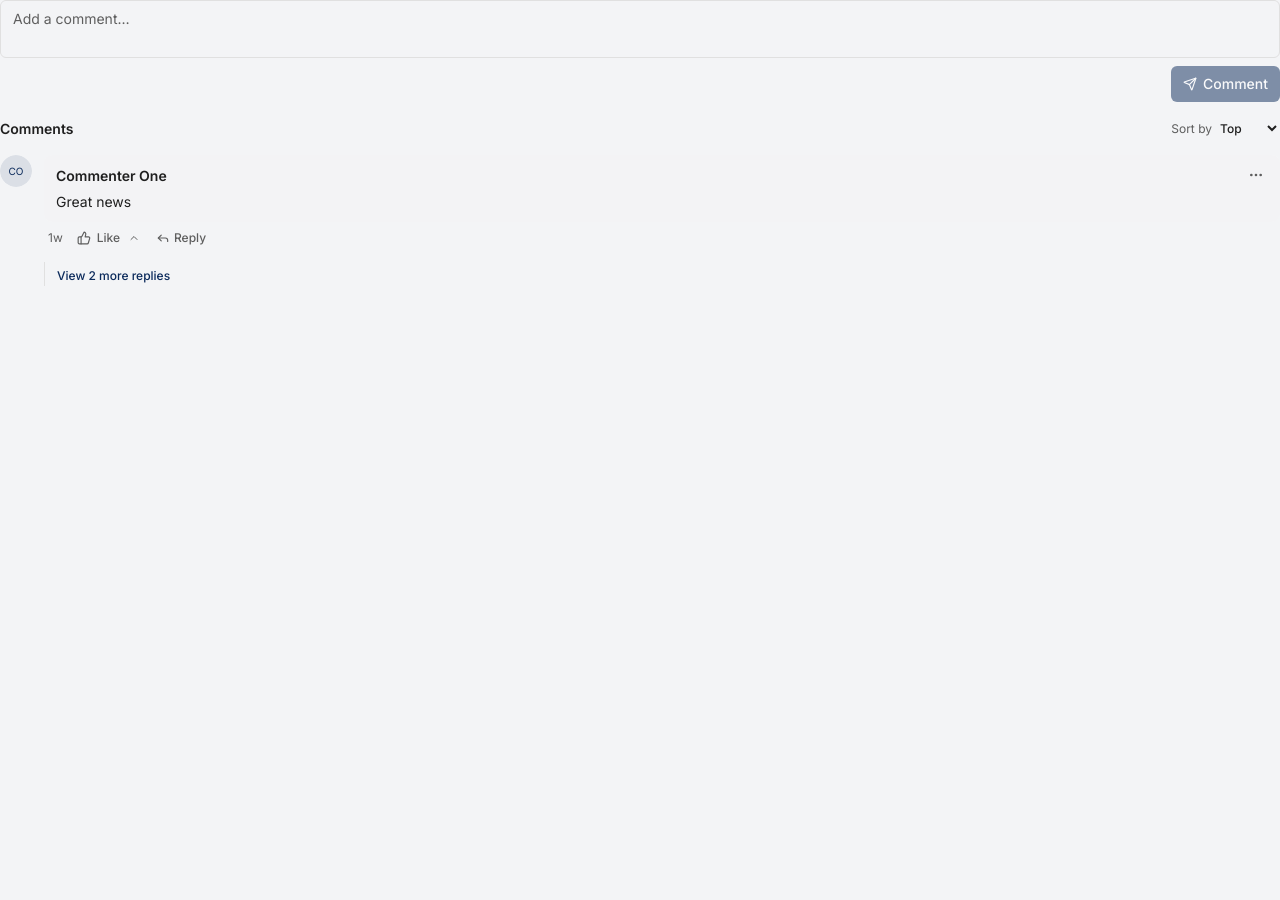
Test: CommentThread › lets the post author delete someone else’s comment (but not edit it)
This screenshot has width=1280, height=900.
Expected: the text "Great news" is shown, [56,193,131,210]
Click the button named "Comment options": (1256, 175) [1244,163,1268,187]
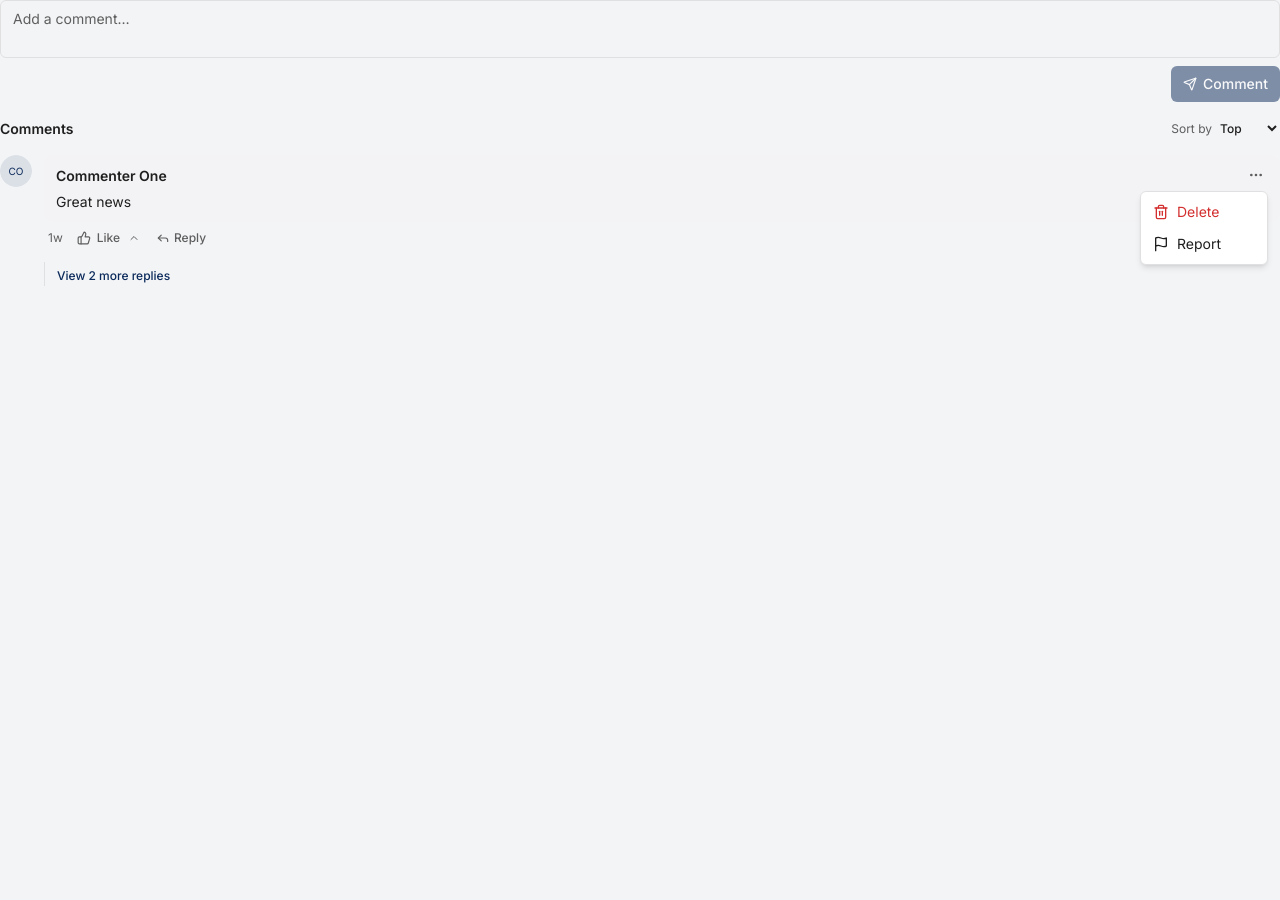
Click the menu item "Delete": (1186, 212) [1153,203,1219,220]
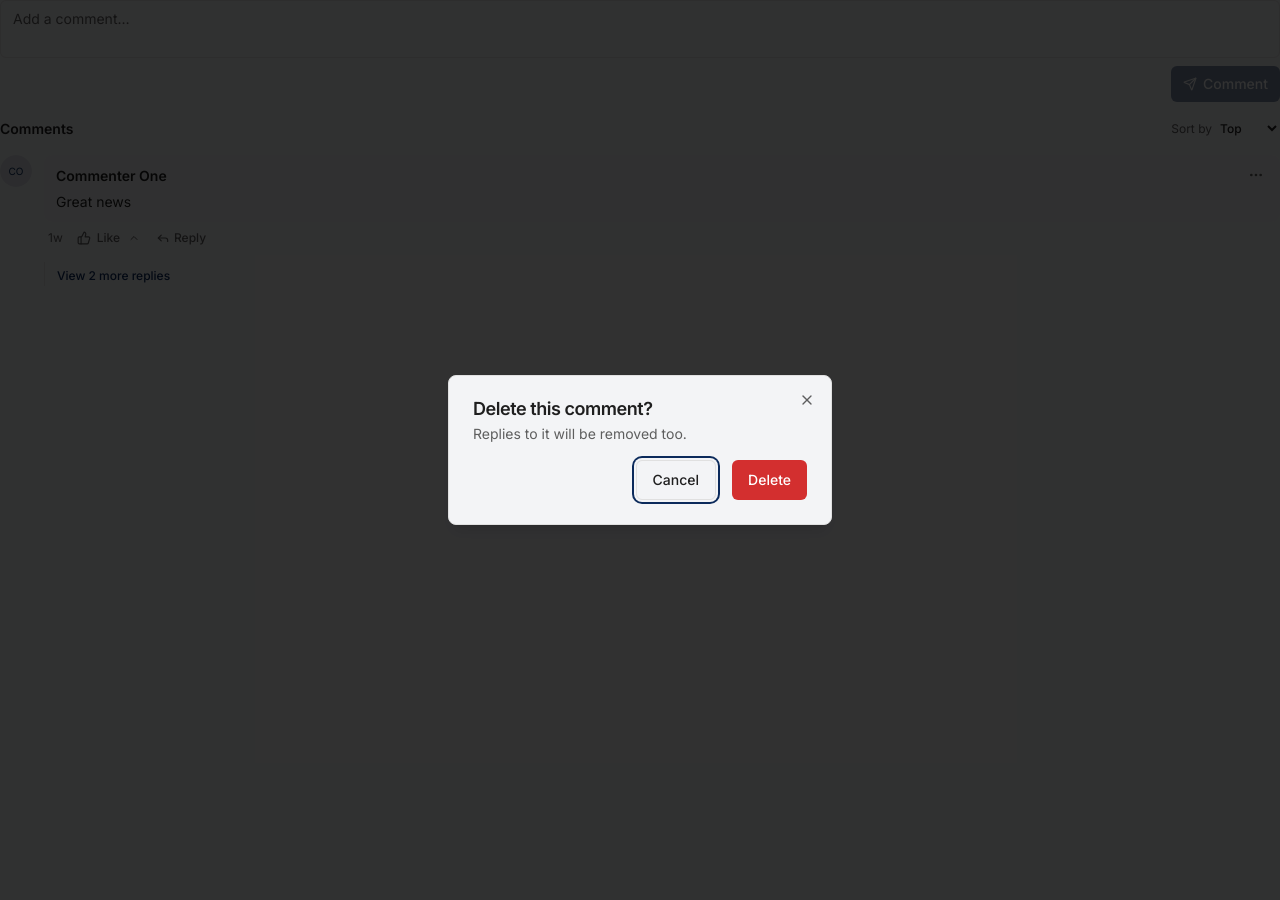
Click the button "Delete": (770, 480) [732,460,807,500]
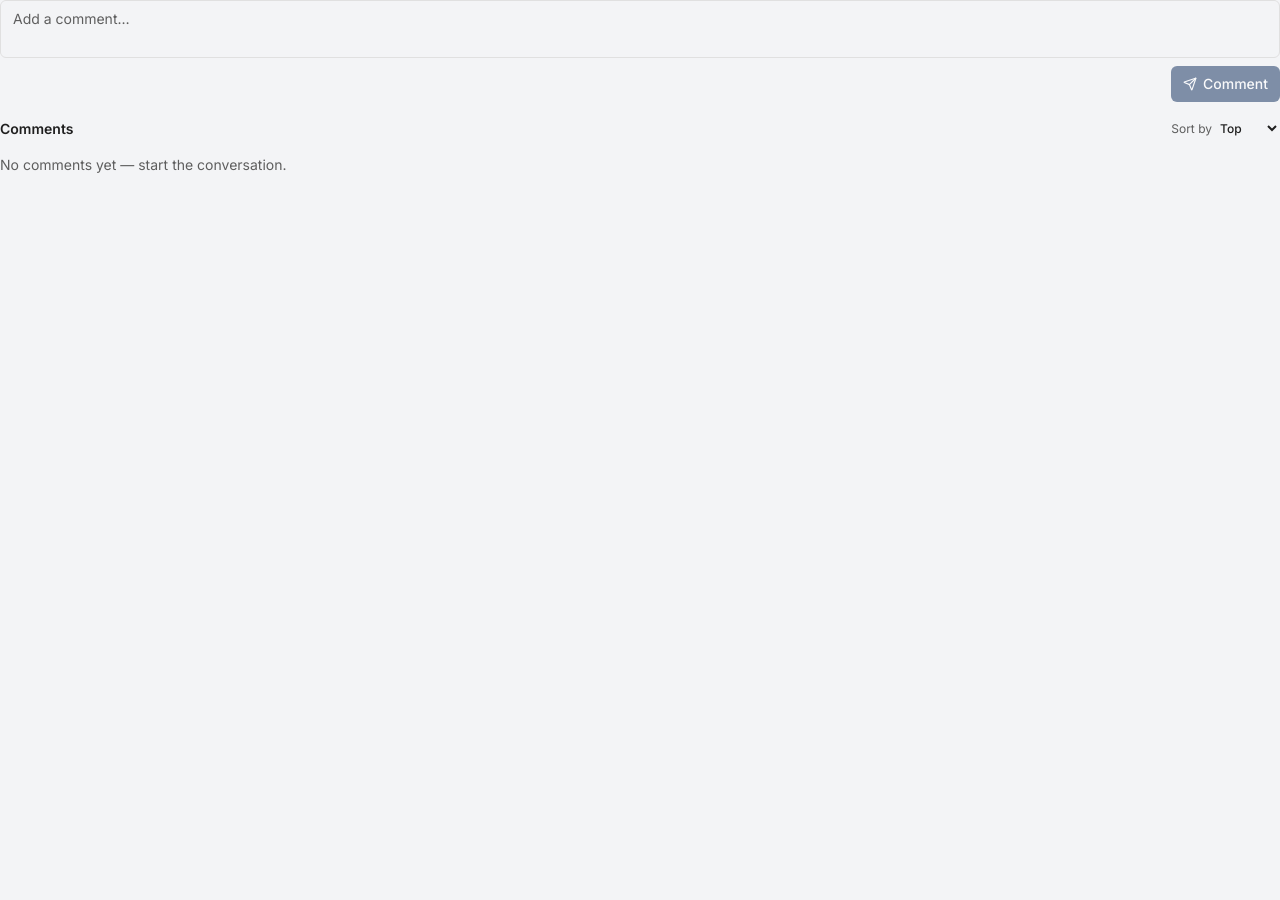
Now the text "Great news" is gone
